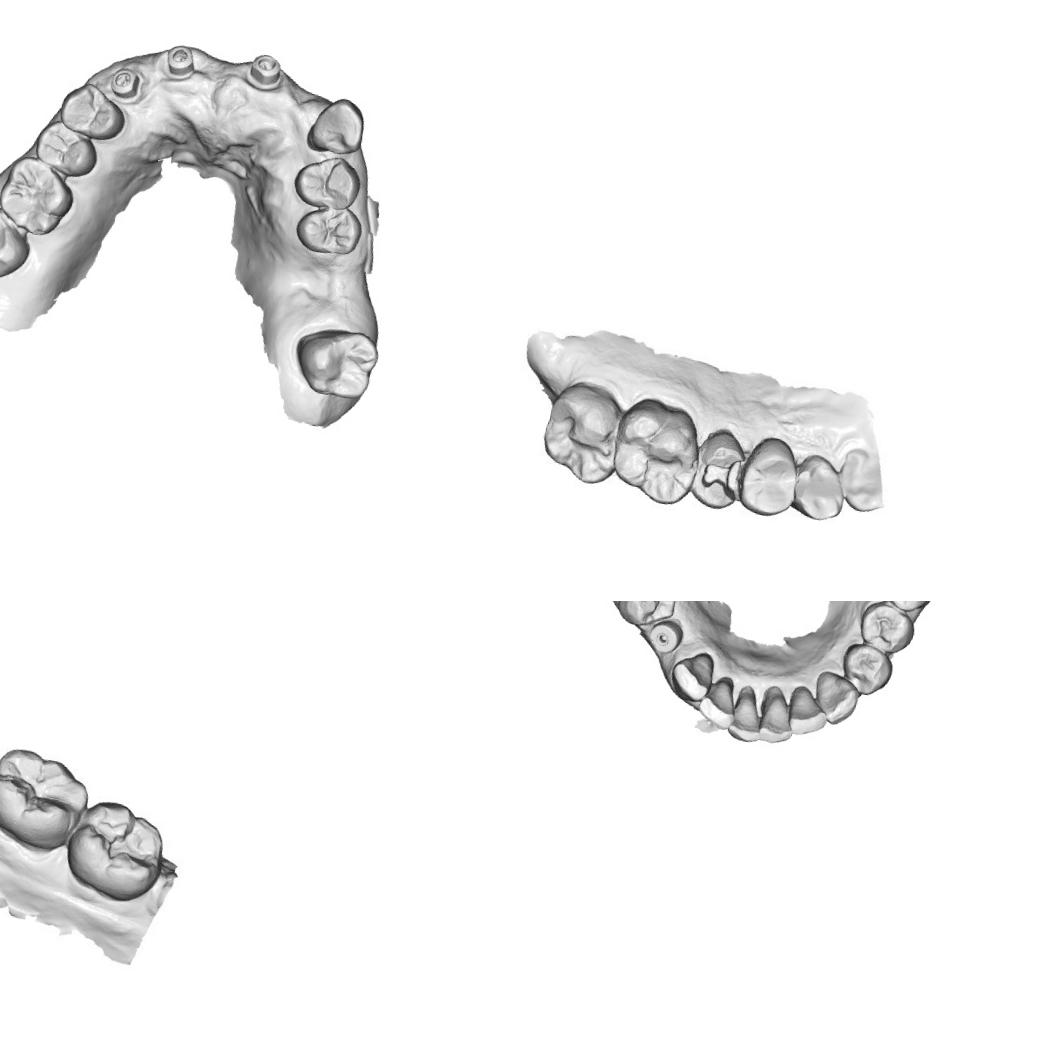canine: (786, 454, 852, 526), (303, 92, 370, 160), (807, 666, 864, 729), (666, 646, 719, 706)
implant: (242, 48, 288, 94), (160, 40, 202, 82), (106, 62, 145, 102), (645, 616, 684, 656)
incisor: (835, 446, 891, 513), (782, 682, 833, 740), (693, 672, 739, 732), (754, 690, 800, 747), (724, 689, 765, 744)
inlay: (696, 450, 745, 504)
molar: (605, 391, 708, 510), (66, 794, 170, 902), (534, 377, 628, 489), (0, 746, 93, 846), (287, 319, 383, 405), (0, 151, 80, 241), (0, 199, 38, 286)
premolar: (736, 435, 803, 525), (287, 148, 366, 214), (54, 78, 131, 144), (29, 115, 104, 182), (290, 198, 366, 262), (835, 640, 897, 700), (852, 601, 919, 656), (610, 601, 681, 632)
